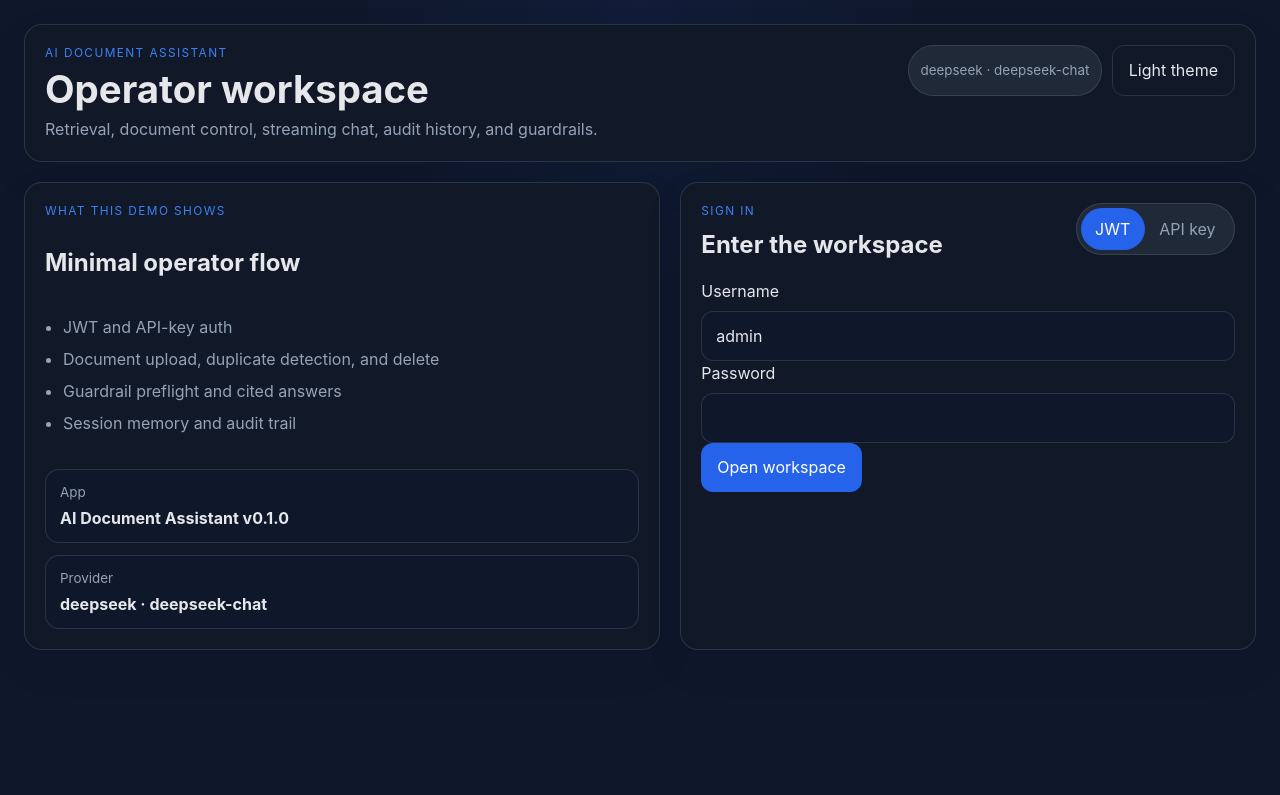
Test case: App › shows a grounded answer with citations and session memory
The image size is (1280, 795).
Expected: the button "Open workspace" is shown, [701,443,862,492]
Type "admin" into the password field labelled "Password" at (968, 418), box [701,393,1235,443]
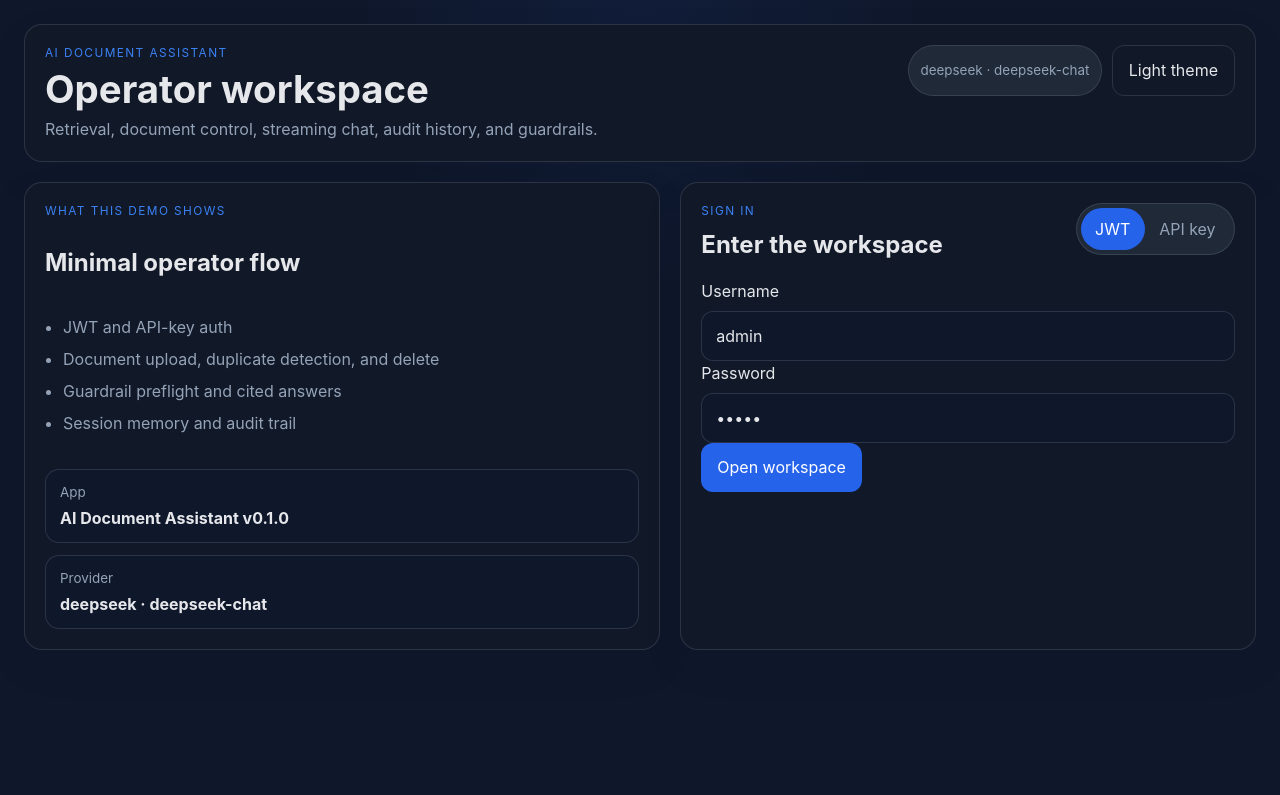
Click the button "Open workspace" at (782, 467), box [701,443,862,492]
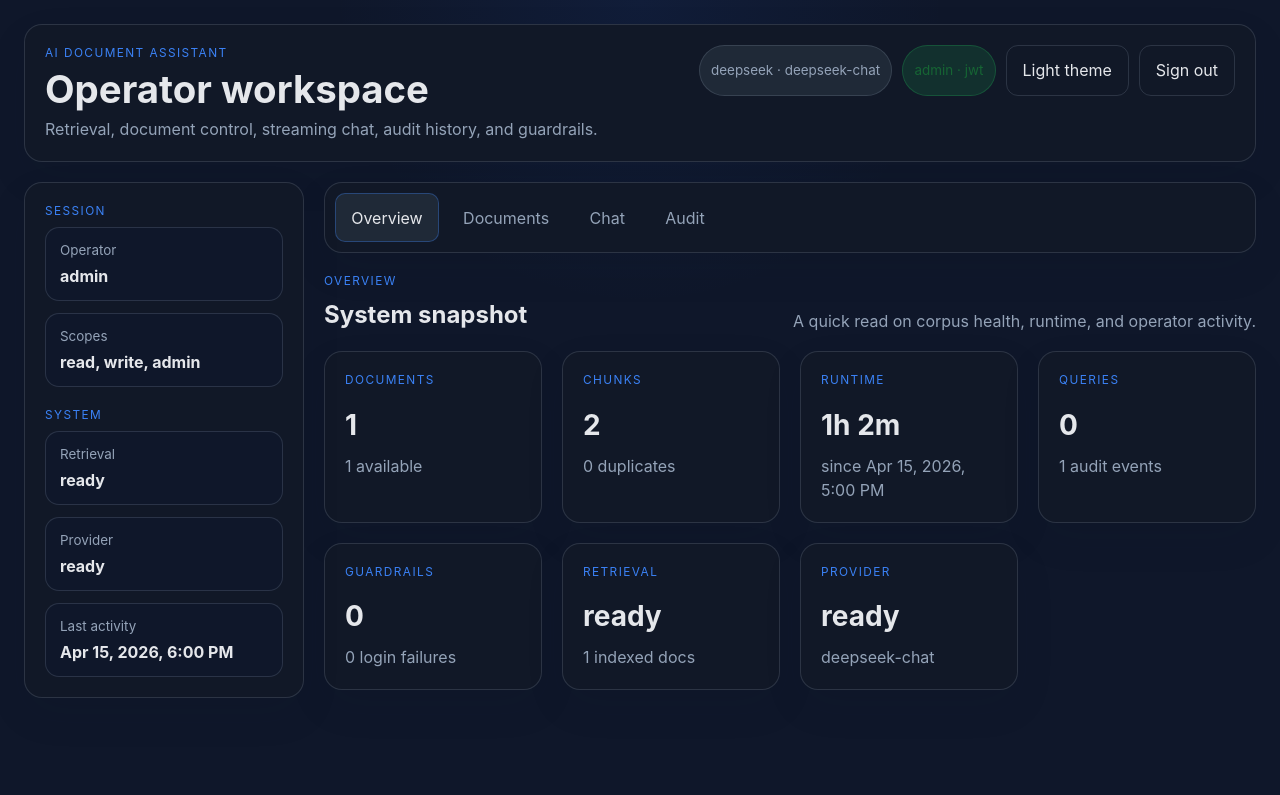
Expected: the button "Documents" is shown, [447,193,565,242]
Click the button "Chat" at (607, 218), box [573,193,641,242]
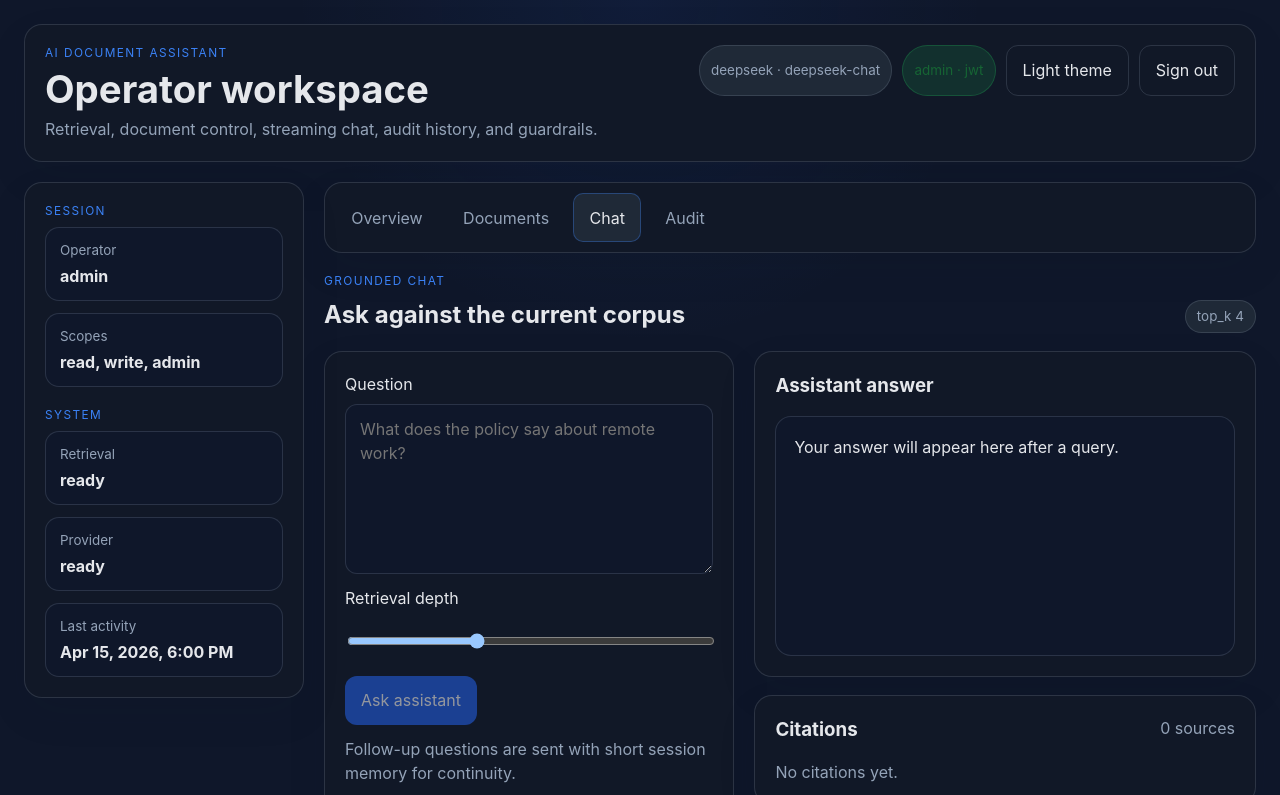
Type "What is the remote work policy?" into the text box labelled "Question" at (529, 489), box [345,404,713,574]
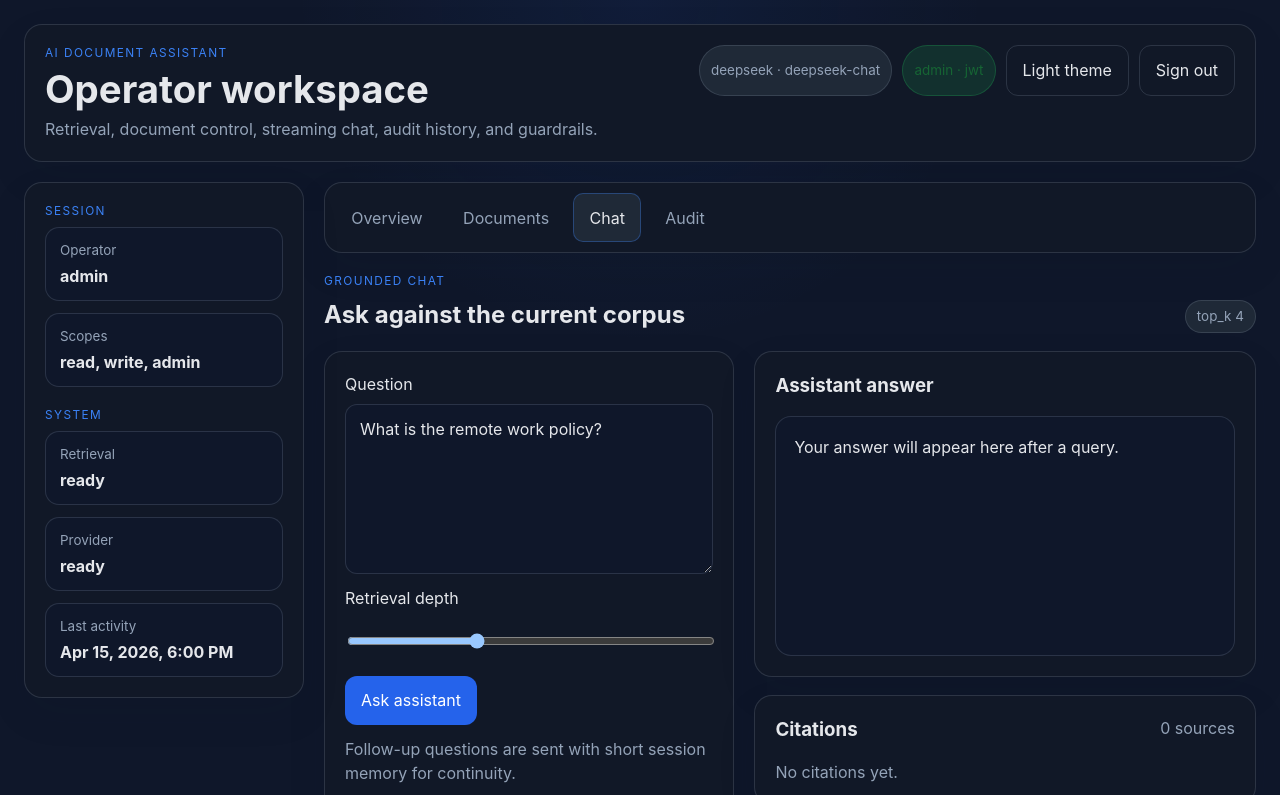
Click the button "Ask assistant" at (411, 700), box [345,676,477,725]
(page scrolled)
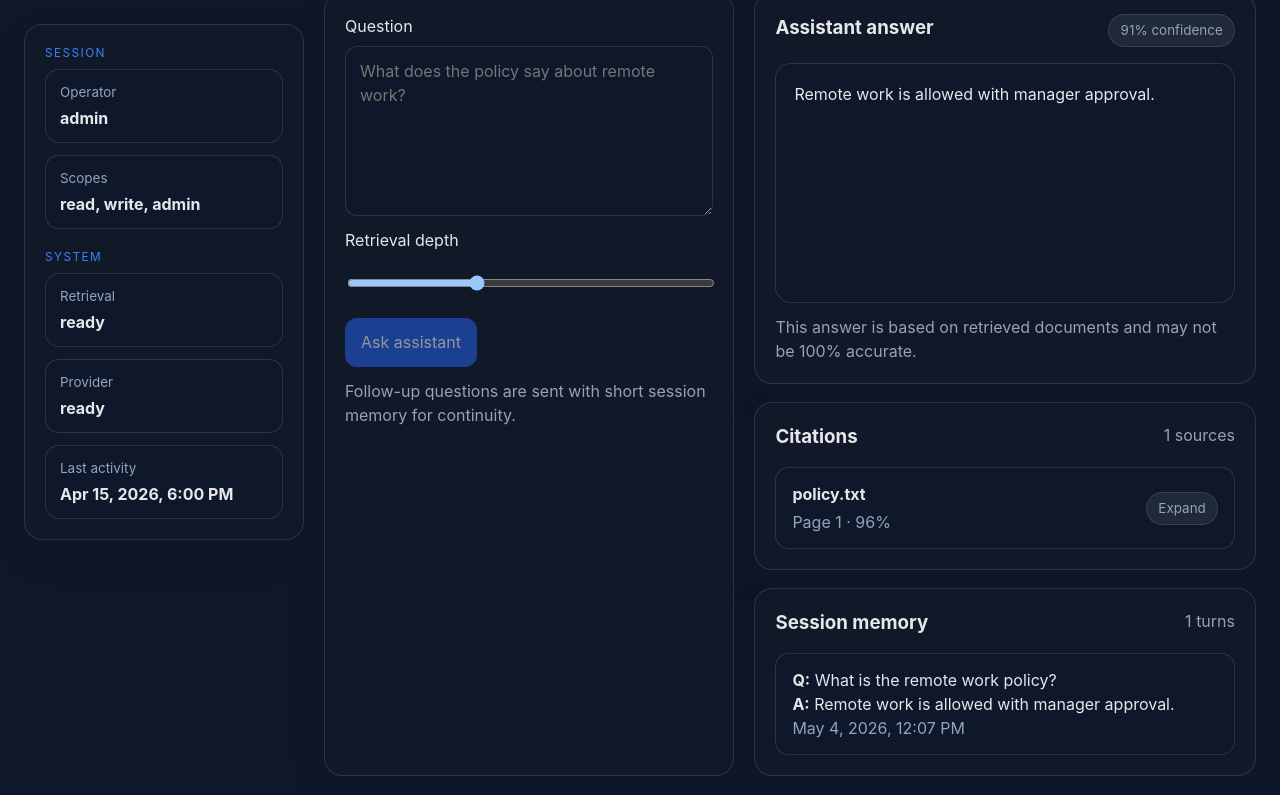
Expected: the text "Remote work is allowed with manager approval." is shown, [775,63,1235,303]
Expected: the text "policy.txt" is shown
Click the text "policy.txt" at (829, 494), box [792,484,866,504]
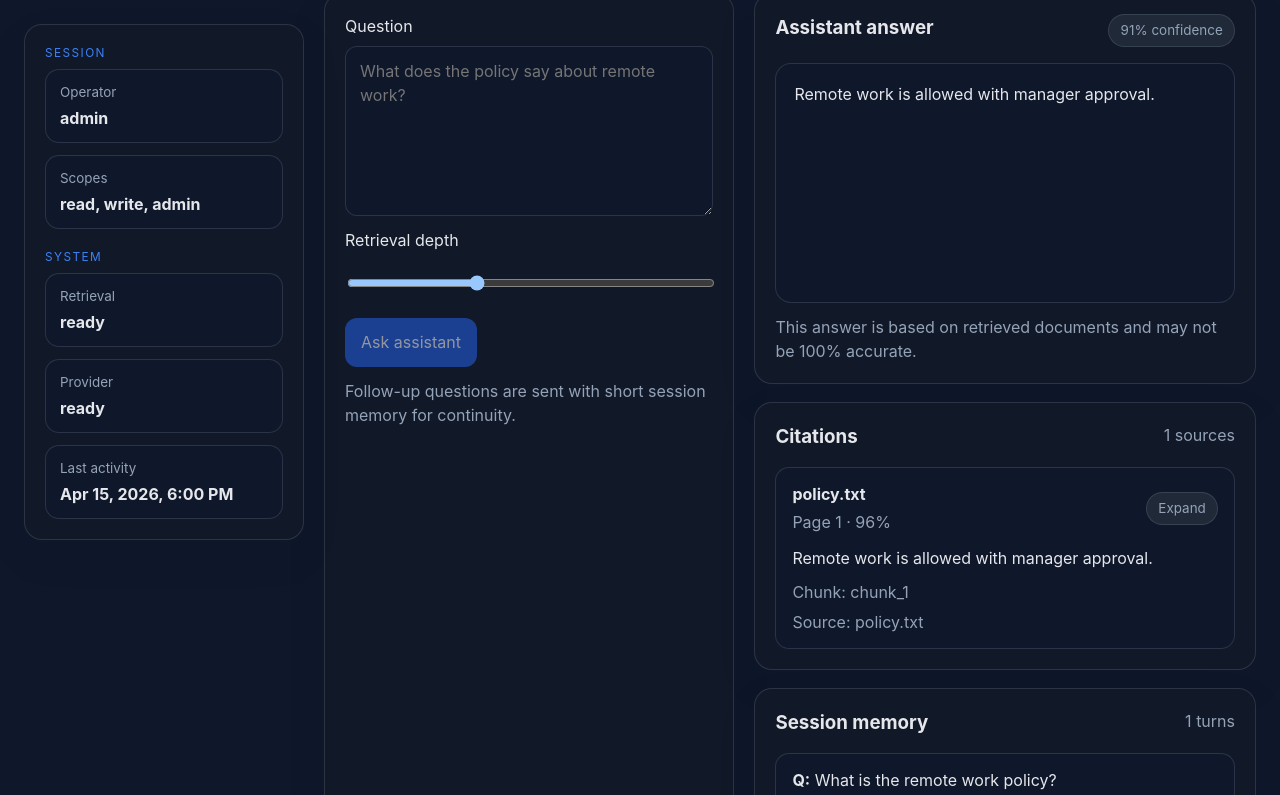
Expected: the text "Chunk: chunk_1" is shown, [792,582,909,602]
